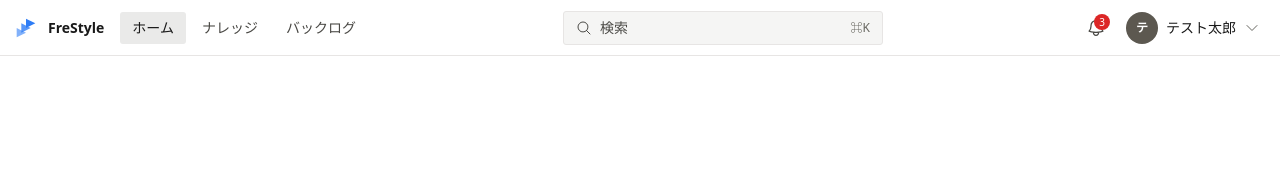
Scenario: Header › ユーザーメニューを開くと設定/ログアウトが出る
Click the text "テスト太郎".
click(1201, 28)  # box [1166,18,1236,38]
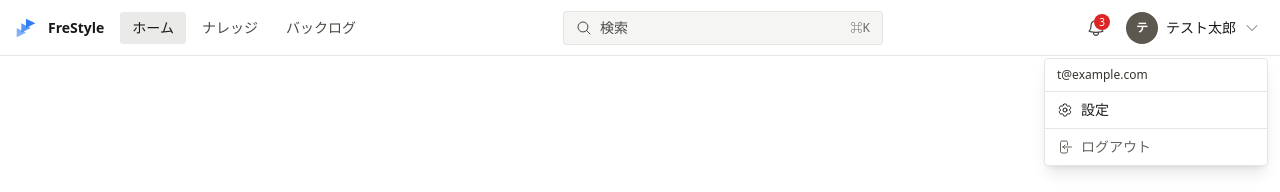
Result: the button "設定" is shown at [1045,92,1267,128]
Result: the button "ログアウト" is shown at [1045,128,1267,164]
